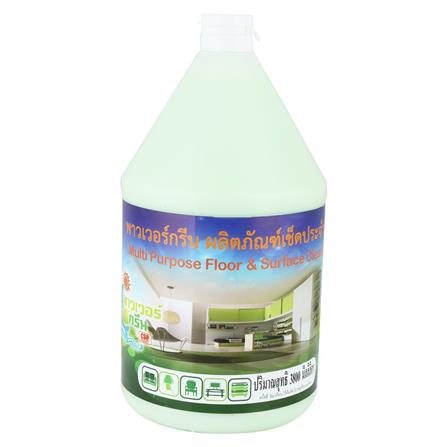Cleaning_solution: (109, 6, 331, 439)
